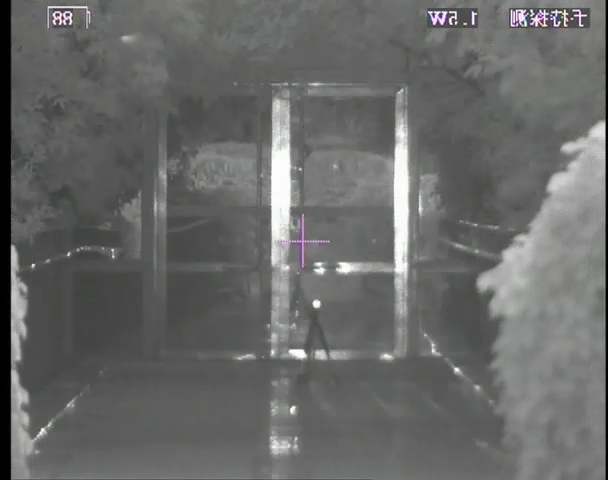my: (310, 298, 321, 309)
